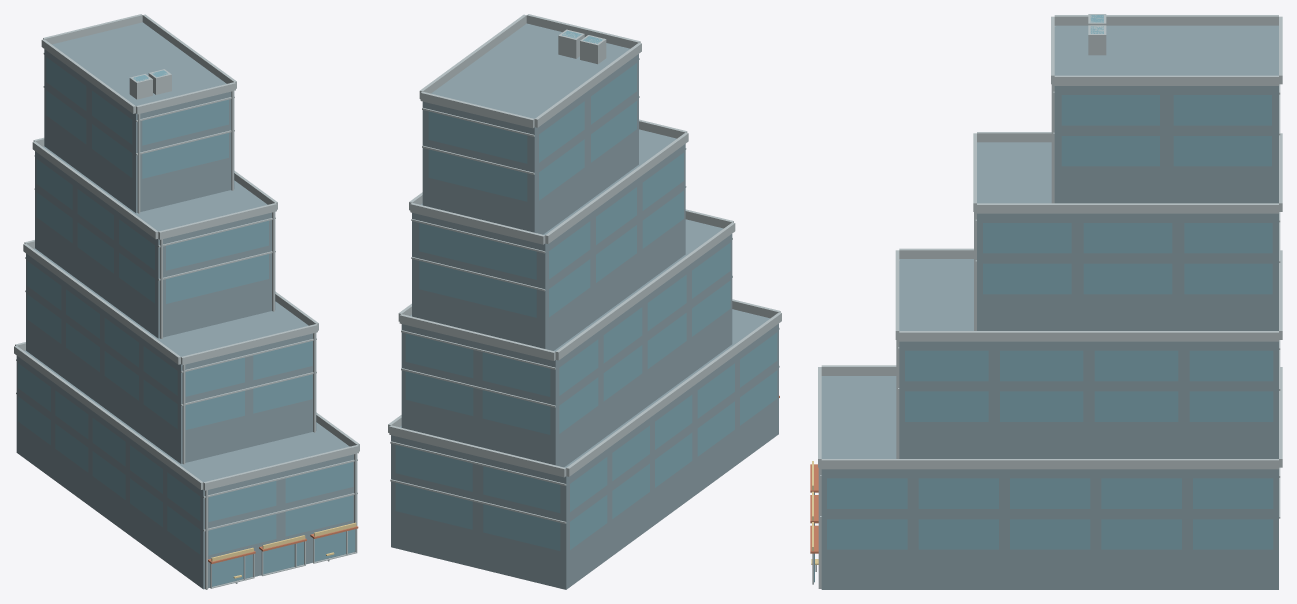
Rendered from commercial_2x4_terraces.glb.
3 renders of one model, left to right at view 1: azimuth 30°, elevation 25°; view 2: azimuth 150°, elevation 25°; view 3: azimuth 270°, elevation 25°, orthographic. The views are drawn at different scales.
Parts seen in each view (by area): view 1: commercial_2x4_terraces_0; view 2: commercial_2x4_terraces_0; view 3: commercial_2x4_terraces_0.
Part boxes in pixels (left/top/right/bottom): commercial_2x4_terraces_0: left=14, top=14, right=359, bottom=589; commercial_2x4_terraces_0: left=388, top=14, right=781, bottom=589; commercial_2x4_terraces_0: left=810, top=14, right=1282, bottom=589.
Size of the model in its own units: 15 by 37.5 by 31.5.
